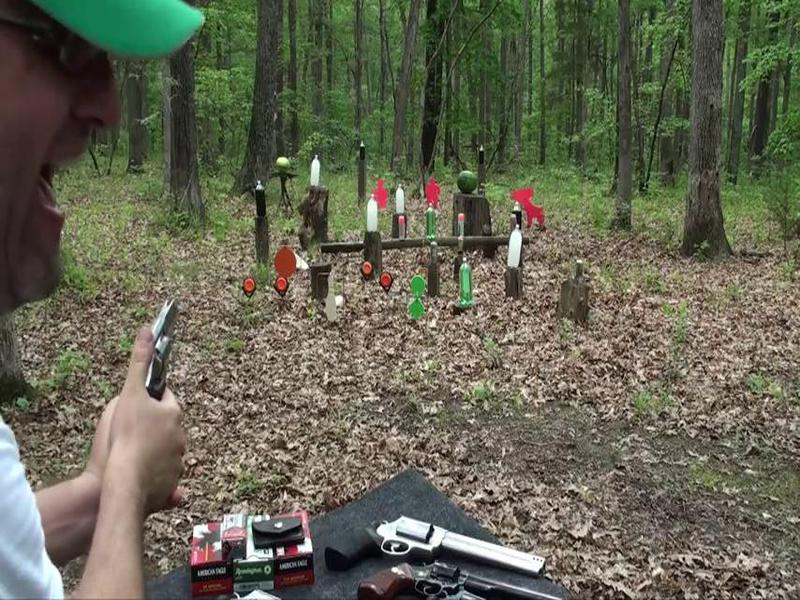Revolver: (128, 292, 189, 414)
